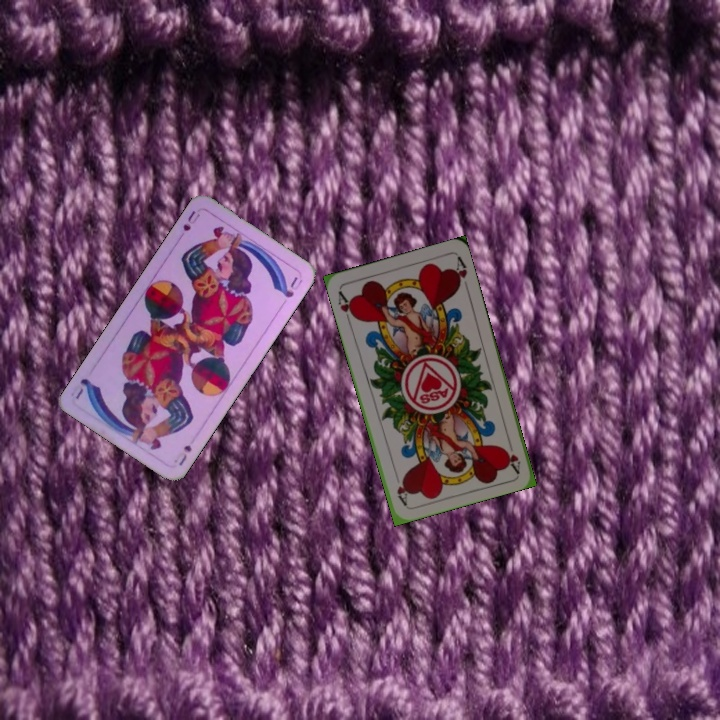HA: (334, 286, 359, 326), (501, 444, 523, 474)
SU: (176, 207, 203, 243), (175, 441, 194, 468)
